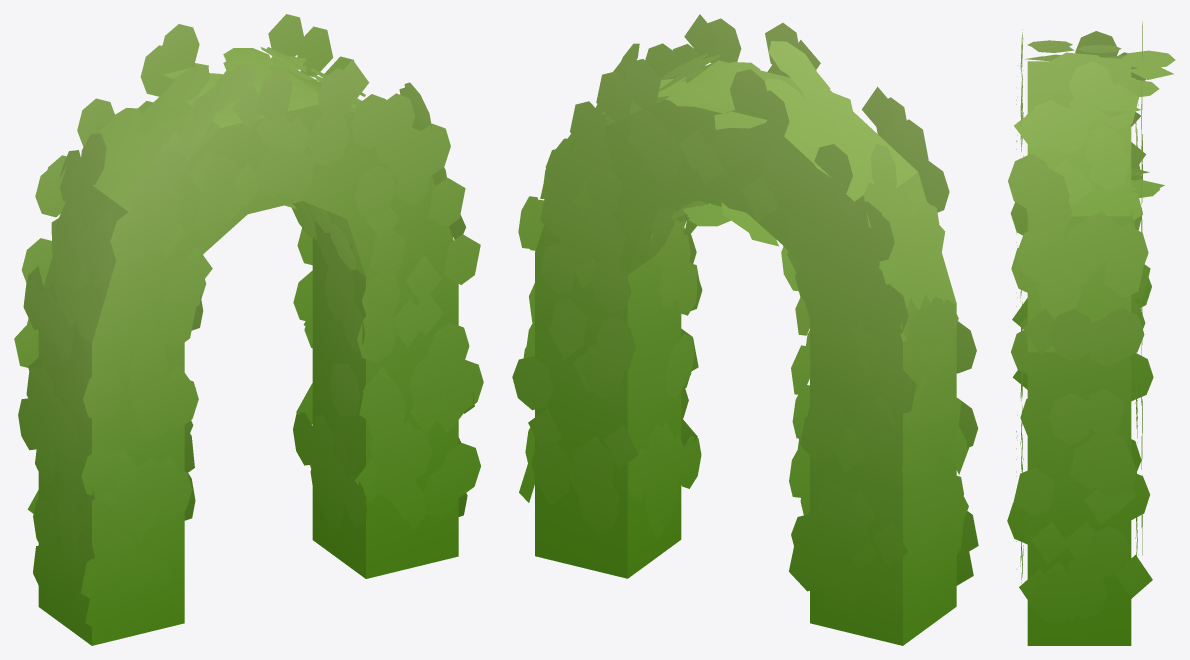
File: bushesportalgreen.glb
3 renders of one model, left to right at view 1: azimuth 30°, elevation 25°; view 2: azimuth 150°, elevation 25°; view 3: azimuth 270°, elevation 25°, orthographic. The views are drawn at different scales.
Parts seen in each view (by area): view 1: bushesportalgreen; view 2: bushesportalgreen; view 3: bushesportalgreen.
Part boxes in pixels (x1,y1,x2,y2): bushesportalgreen: (14, 14, 483, 645); bushesportalgreen: (512, 14, 978, 645); bushesportalgreen: (1007, 21, 1175, 645).
Bounding box in the file's own units: 4.5 × 5.76 × 1.67.
1 material, 1 textured.
